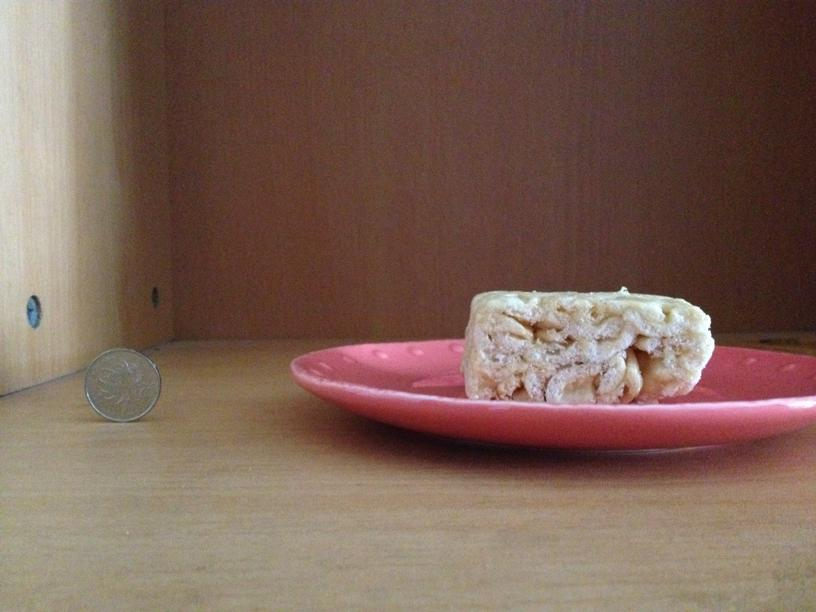coin: (87, 347, 163, 421)
sachima: (462, 287, 710, 407)
